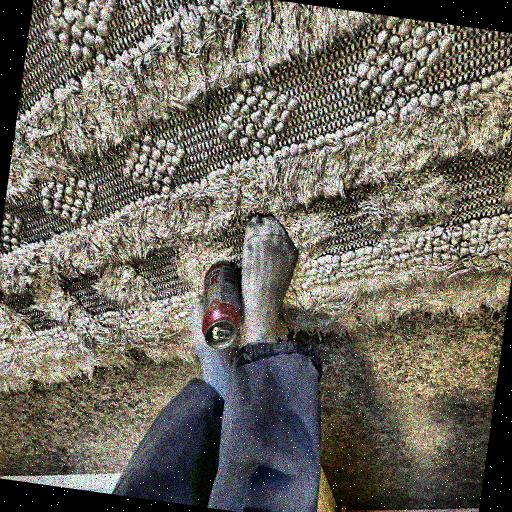koff: (192, 269, 246, 356)
